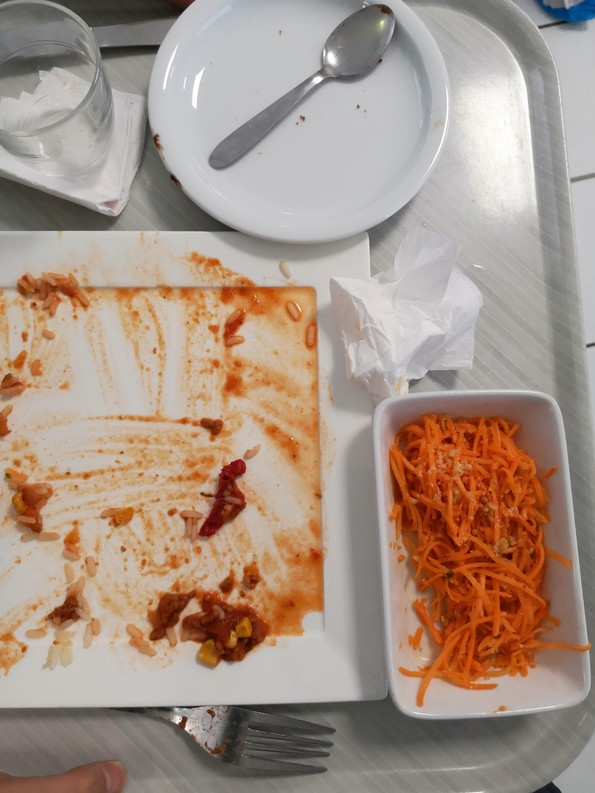cup: (1, 2, 121, 194)
cutlery: (212, 3, 403, 174), (129, 693, 349, 767)
orga: (414, 417, 563, 676)
trash: (331, 249, 483, 387), (1, 164, 164, 220)
